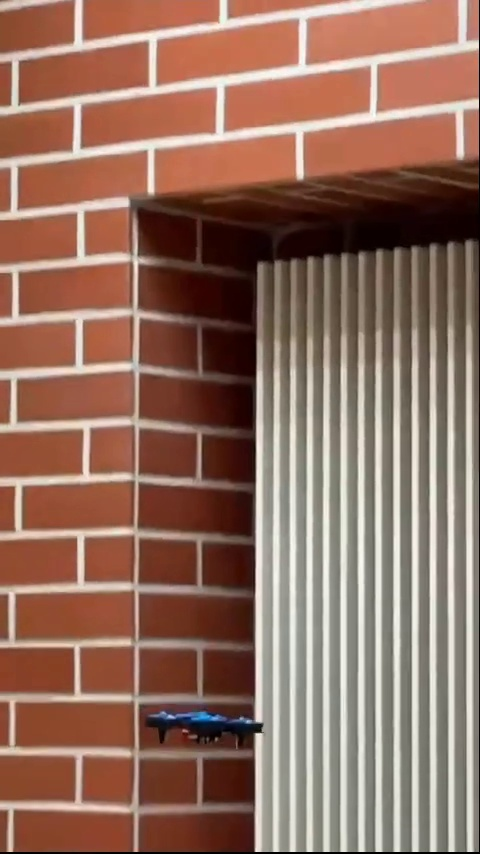drone: (145, 706, 265, 752)
